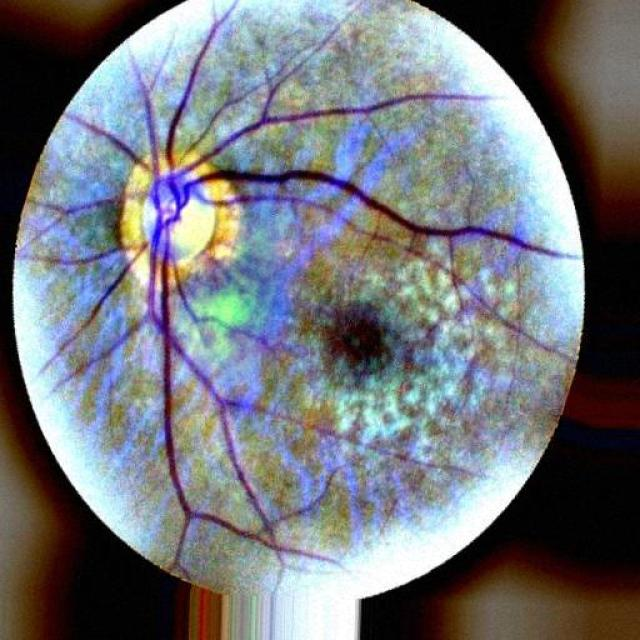Macula: (319, 301, 415, 386)
Nerves: (156, 26, 489, 246), (148, 197, 204, 529)
Optic Disk: (123, 151, 245, 283)
